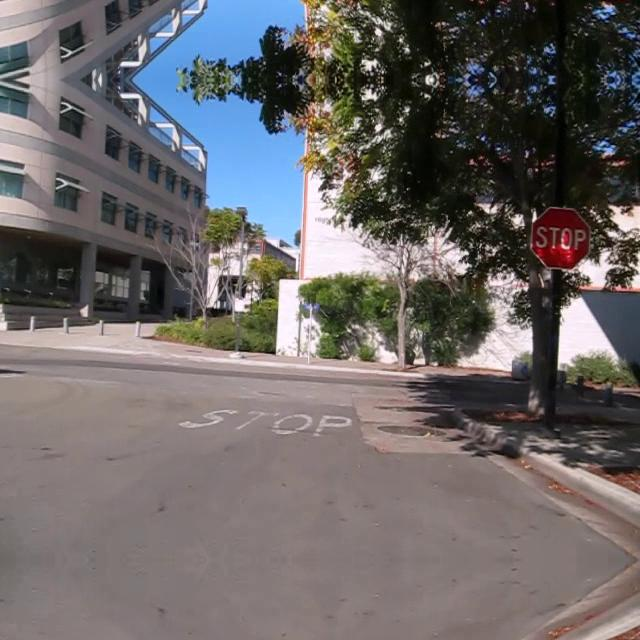stop: (529, 206, 591, 270)
